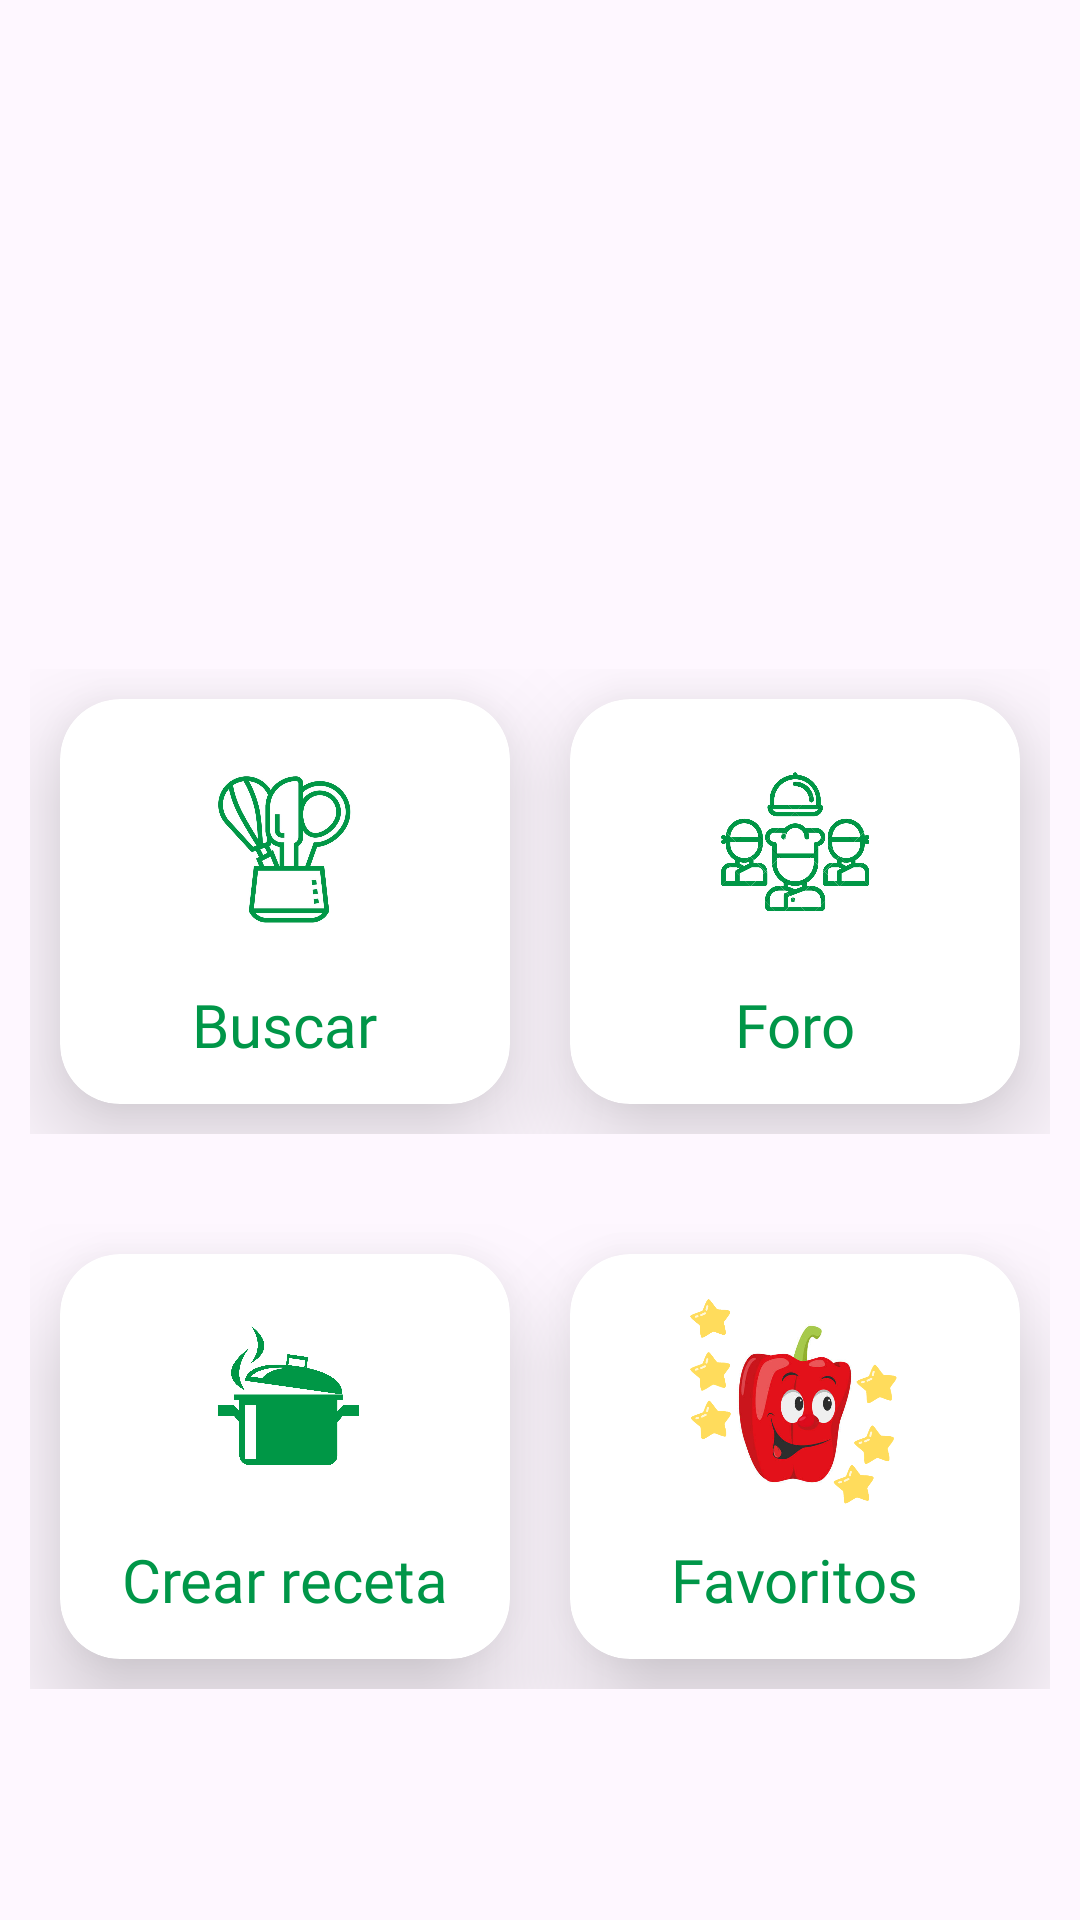

Icons on this 1080w x 1920h Android screen, each with the point to tap as [x,y]:
ingresarreceta: [288,1395]
